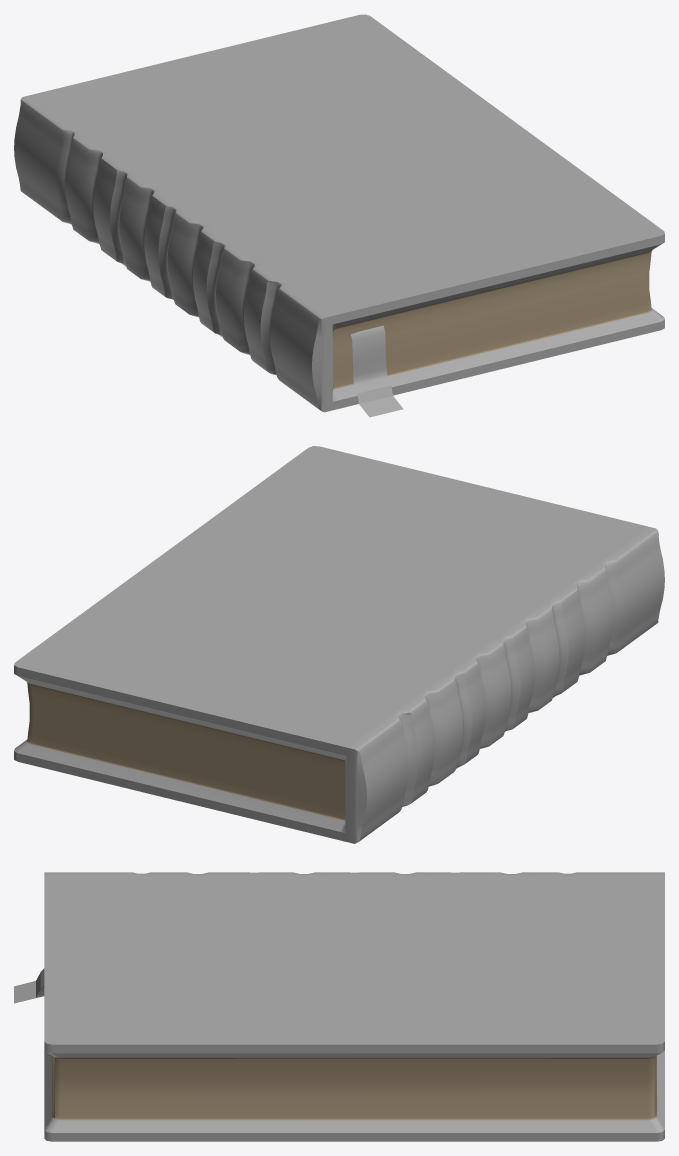
Rendered from Book_3.fbx.
3 renders of one model, top to bottom at view 1: azimuth 30°, elevation 25°; view 2: azimuth 150°, elevation 25°; view 3: azimuth 270°, elevation 25°, orthographic. The views are drawn at different scales.
Visible parts, largest first — view 1: book_3; view 2: book_3; view 3: book_3.
Part boxes in pixels (bbox=[...]): book_3: bbox=[14, 14, 664, 417]; book_3: bbox=[14, 446, 664, 843]; book_3: bbox=[14, 872, 664, 1141].
Bounding box in the file's own units: 52.02 × 13.5 × 80.49.
